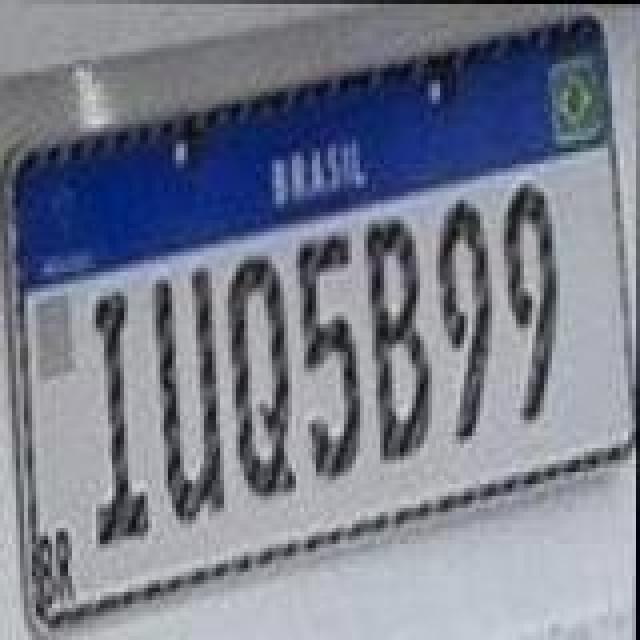5: (298, 222, 370, 486)
9: (432, 192, 492, 444), (500, 182, 560, 426)
B: (362, 212, 434, 464)
I: (96, 284, 156, 548)
Q: (226, 252, 298, 504)
U: (152, 262, 228, 526)
